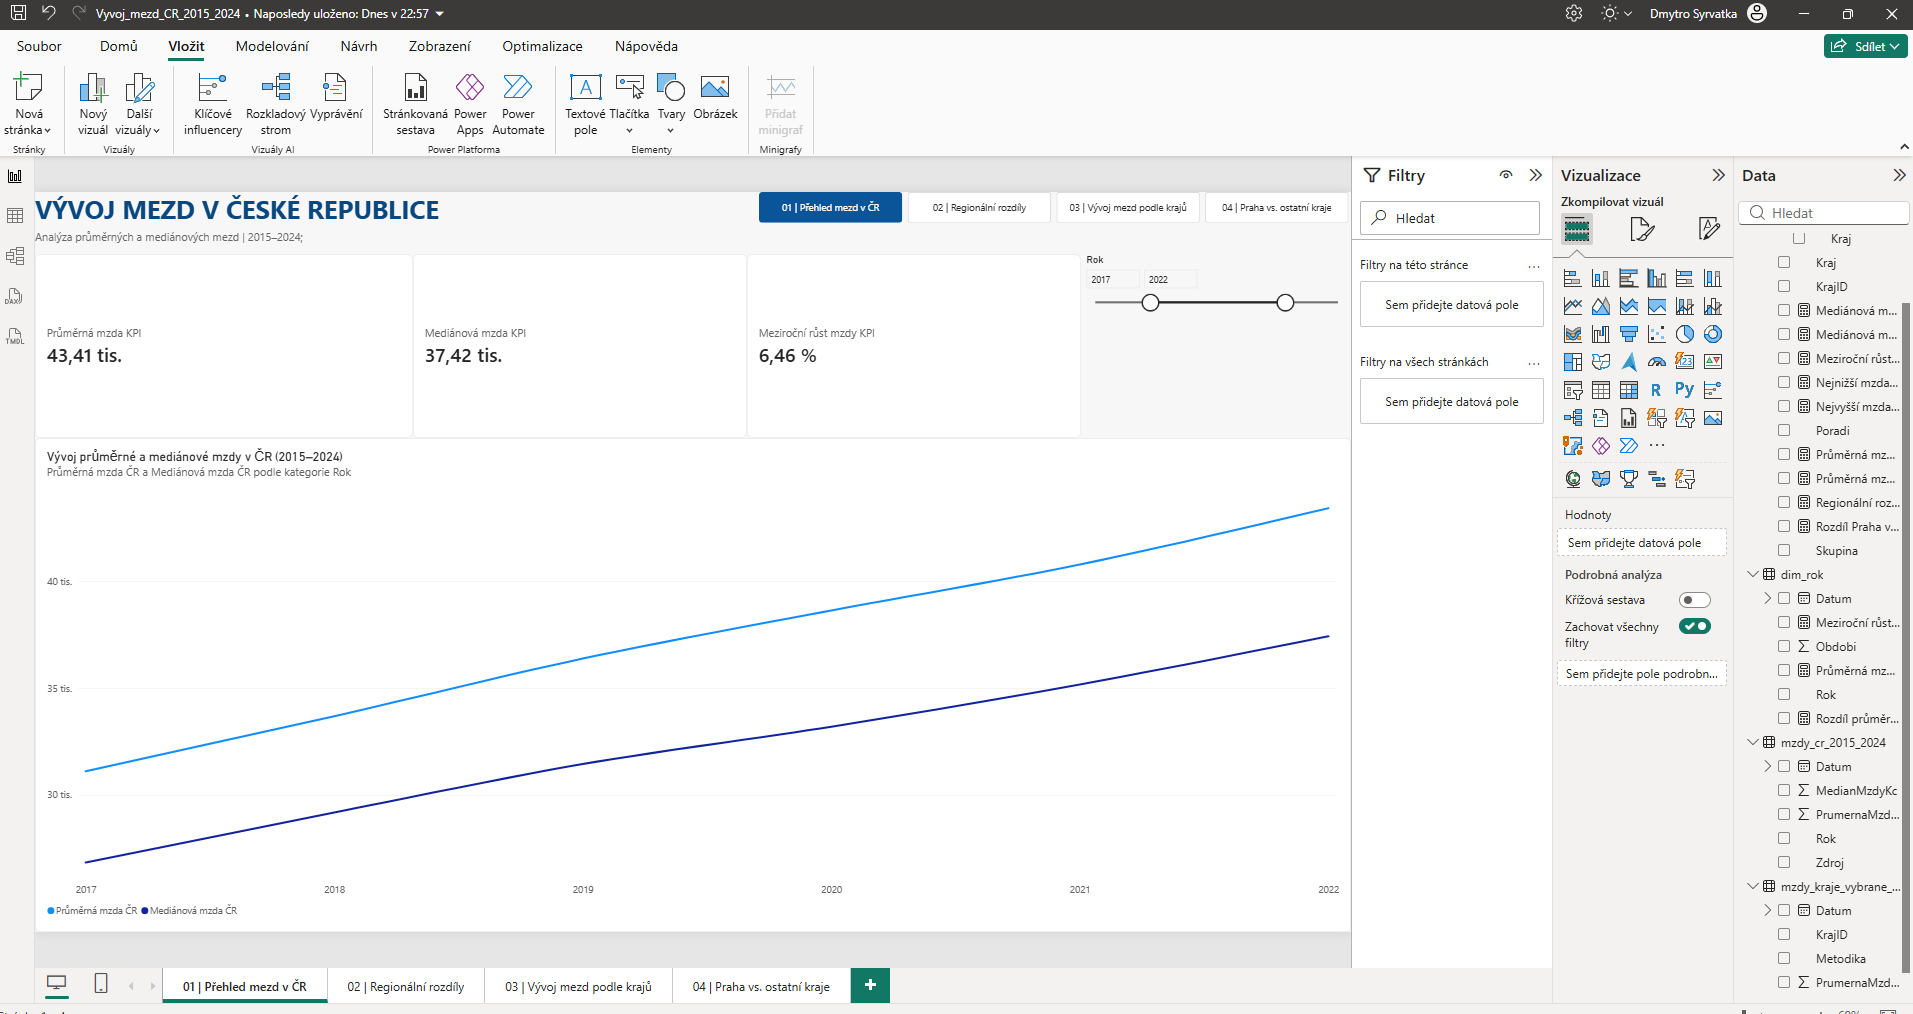

The dashboard page shown, as its layout file describes it:
{"tool":"powerbi","page":{"name":"01 | Přehled mezd v ČR","canvas":[1920,1080],"ordinal":0},"visuals":[{"type":"lineChart","title":"Vývoj průměrné a mediánové mzdy v ČR (2015–2024)","fields":{"Category":["dim_rok.Rok"],"Y":["dim_kraj.Průměrná mzda ČR","dim_kraj.Mediánová mzda ČR"]},"box":[0,358.9,1920,720.7],"z":0},{"type":"cardVisual","fields":{"Data":["dim_kraj.Průměrná mzda KPI"]},"box":[0,90.5,551.5,268.4],"z":1000},{"type":"cardVisual","fields":{"Data":["dim_kraj.Mediánová mzda KPI"]},"box":[551.5,90.5,487,268],"z":2000},{"type":"cardVisual","fields":{"Data":["dim_kraj.Meziroční růst mzdy KPI"]},"box":[1038.8,90.5,487,268],"z":3000},{"type":"textbox","box":[0,0,1920,54],"z":4000},{"type":"textbox","box":[0,54,1920,36.5],"z":5000},{"type":"slicer","fields":{"Values":["dim_rok.Rok"]},"box":[1526.1,90.5,393.9,268.4],"z":6000},{"type":"pageNavigator","box":[1056.3,0,863.7,45.2],"z":7000}]}

Visuals, with their boxes on the page's 1920x1080 design canvas (x1, y1, x2, y2). These are canvas units, not pixel positions in the 1913x1014 screenshot, which may show the page scaled, cropped or inside an application window:
"Vývoj průměrné a mediánové mzdy v ČR (2015–2024)" lineChart: (left=0, top=359, right=1920, bottom=1080)
cardVisual - dim_kraj.Průměrná mzda KPI: (left=0, top=90, right=552, bottom=359)
cardVisual - dim_kraj.Mediánová mzda KPI: (left=552, top=90, right=1038, bottom=358)
cardVisual - dim_kraj.Meziroční růst mzdy KPI: (left=1039, top=90, right=1526, bottom=358)
textbox: (left=0, top=0, right=1920, bottom=54)
textbox: (left=0, top=54, right=1920, bottom=90)
slicer - dim_rok.Rok: (left=1526, top=90, right=1920, bottom=359)
pageNavigator: (left=1056, top=0, right=1920, bottom=45)
